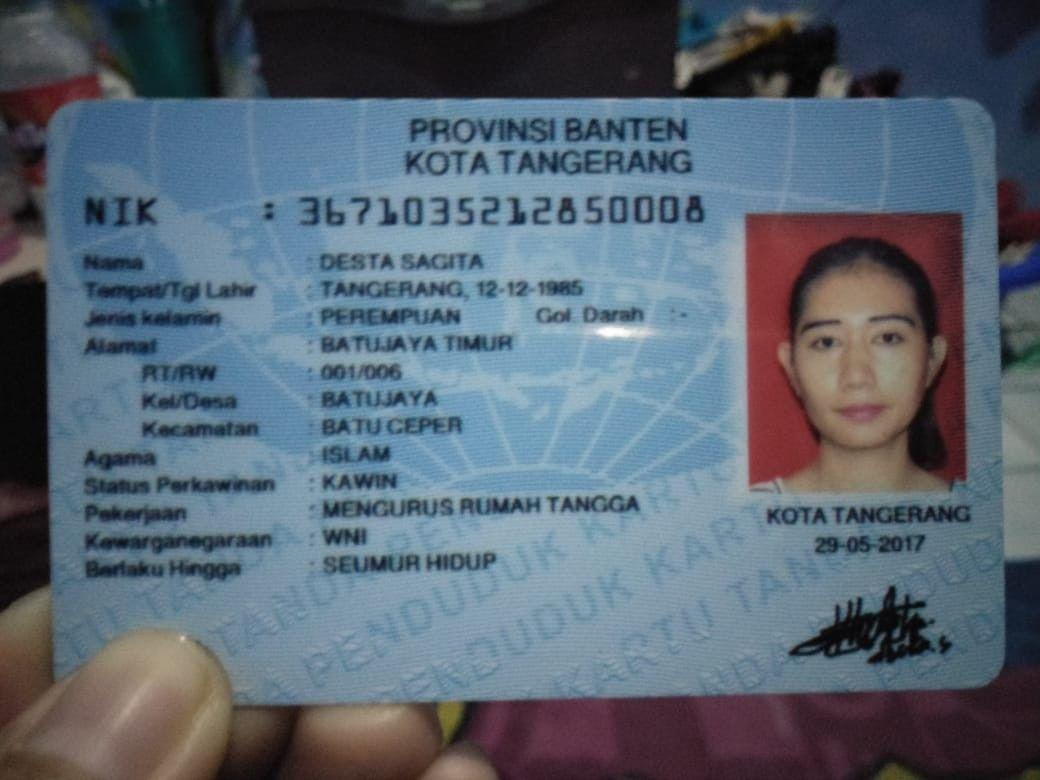ID-card: (54, 100, 1001, 701)
